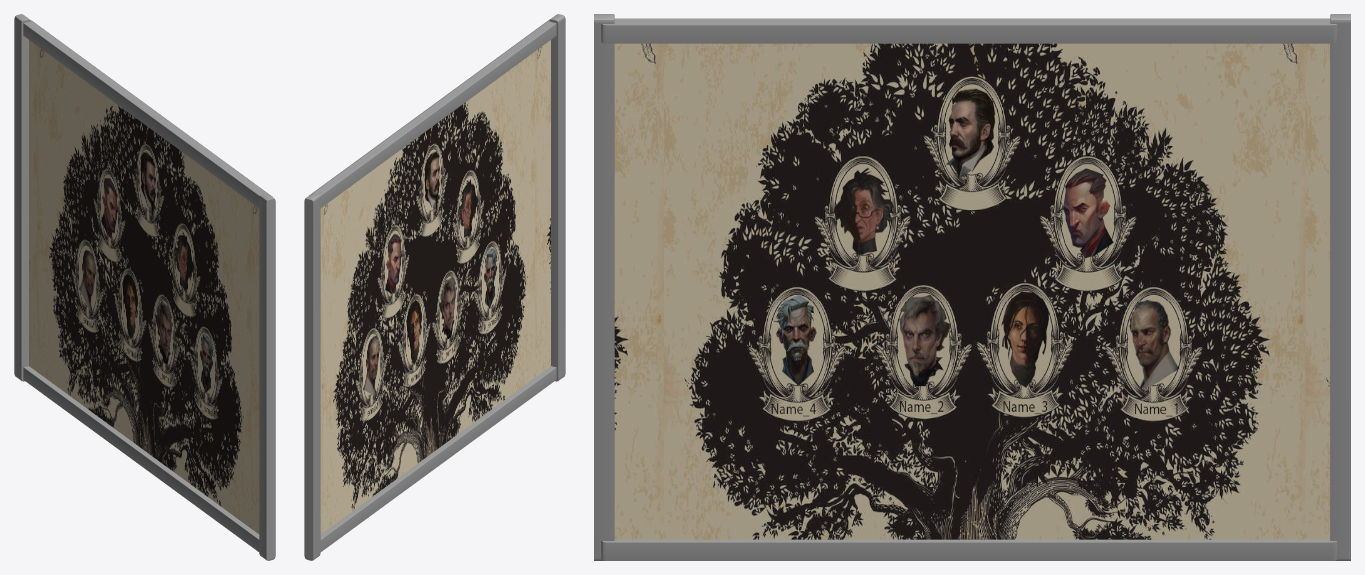
Rendered from Familytree.fbx.
3 views of the same model, side by side, from view 1: azimuth 30°, elevation 25°; view 2: azimuth 150°, elevation 25°; view 3: azimuth 270°, elevation 25° (orthographic). The views are drawn at different scales.
Parts seen in each view (by area): view 1: polySurface155, pCube2, pCube3, pCube4, pCube5; view 2: polySurface155, pCube3, pCube2, pCube4, pCube5; view 3: polySurface155, pCube4, pCube5, pCube3, pCube2.
Part boxes in pixels (x1,y1,x2,y2): polySurface155: [29, 40, 259, 534]; pCube2: [259, 193, 275, 560]; pCube3: [14, 14, 30, 381]; pCube4: [23, 20, 272, 207]; pCube5: [23, 366, 259, 551]; polySurface155: [320, 40, 550, 534]; pCube3: [304, 193, 320, 560]; pCube2: [549, 14, 565, 381]; pCube4: [309, 19, 556, 207]; pCube5: [320, 366, 556, 551]; polySurface155: [614, 43, 1330, 539]; pCube4: [601, 18, 1337, 43]; pCube5: [601, 539, 1337, 560]; pCube3: [1330, 14, 1350, 560]; pCube2: [594, 14, 614, 560].
Bounding box in the file's own units: 8.42 × 256 × 323.
